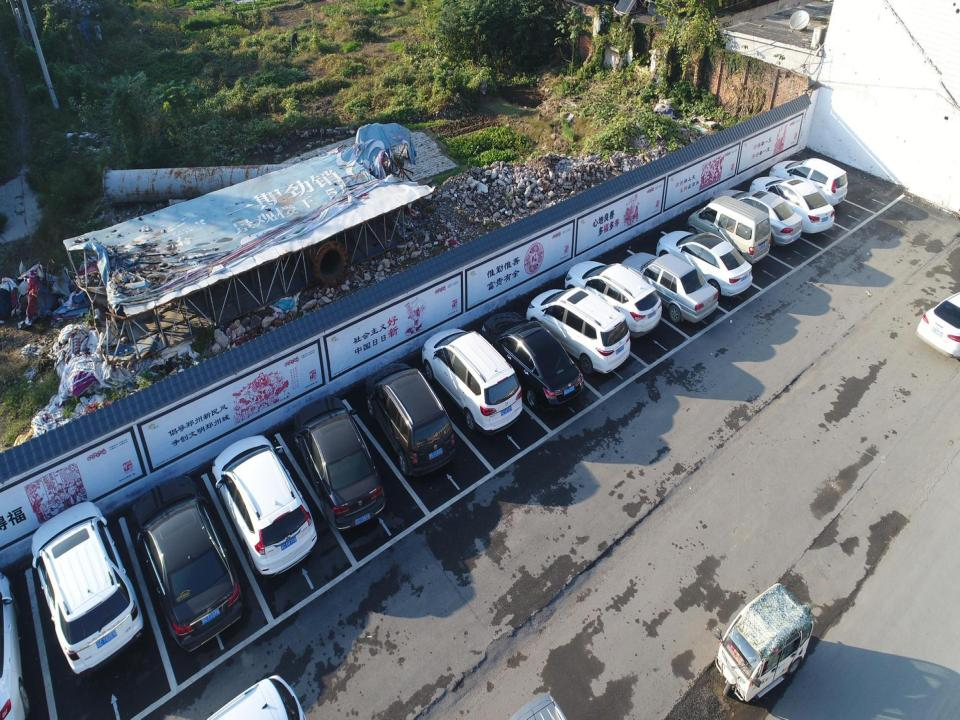car: (30, 499, 146, 680), (130, 475, 244, 654), (211, 430, 318, 579), (293, 395, 386, 532), (420, 322, 526, 436), (364, 362, 458, 475), (482, 312, 586, 407), (526, 288, 632, 375), (566, 259, 664, 337), (622, 250, 719, 322), (655, 227, 753, 297), (710, 183, 804, 245), (748, 175, 834, 236), (767, 156, 848, 210)
van: (687, 197, 773, 266)
